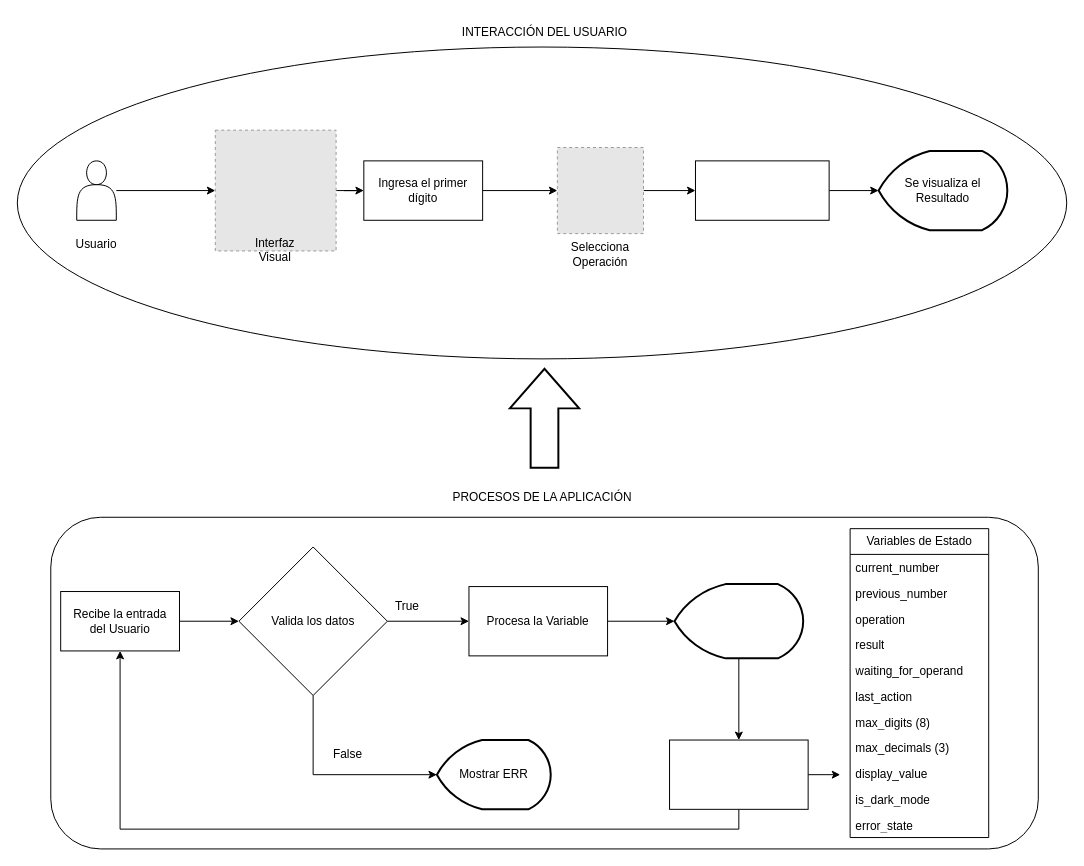
This 1084x866 diagram has some shape labels left out. Grey dashed boxes stand in for pictures. Here are the shapes that lost their labels. From the top down, the centre of each, then its label:
(761,190): Ingresa el segundo número y presiona "="
(738,621): Actualiza la pantalla
(738,774): Actualizar Variables de estado
